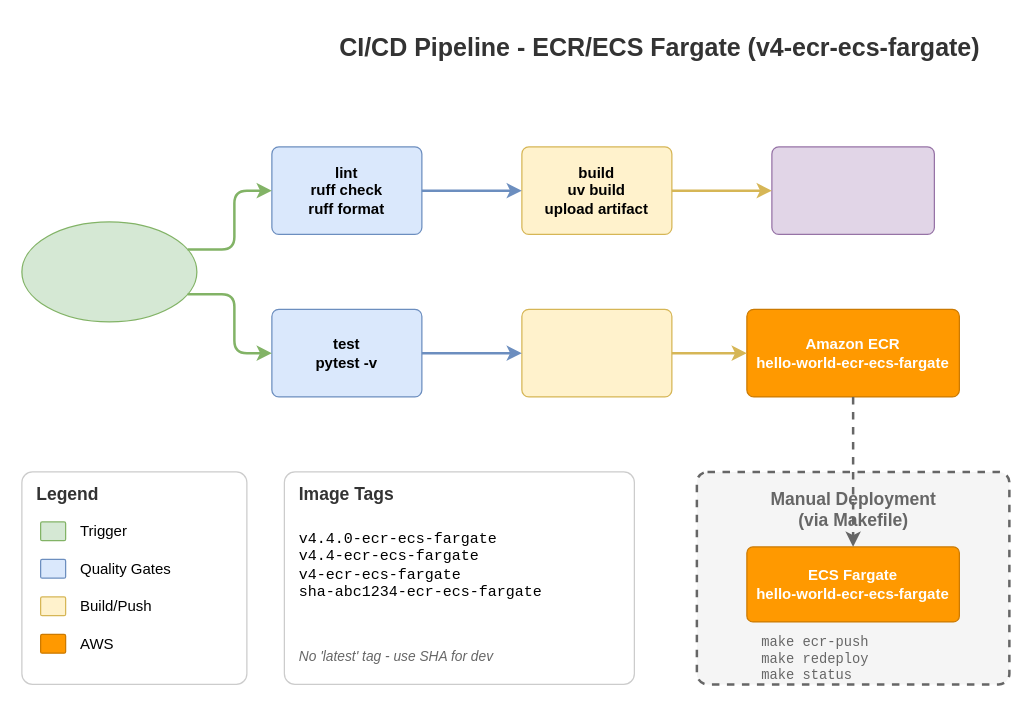
Some shapes in this 1033 by 711 pixel diagram are drawn without their labels. The shapes that lost their labels are listed below. From the top down, each one's box as (x1, y1, x2, y2) in pixels, then its label:
(771, 146, 934, 234): release GitHub Release with artifacts
(21, 221, 197, 322): Git Push Tag v*-ecr-ecs-fargate
(521, 308, 672, 397): docker build + push to ECR
